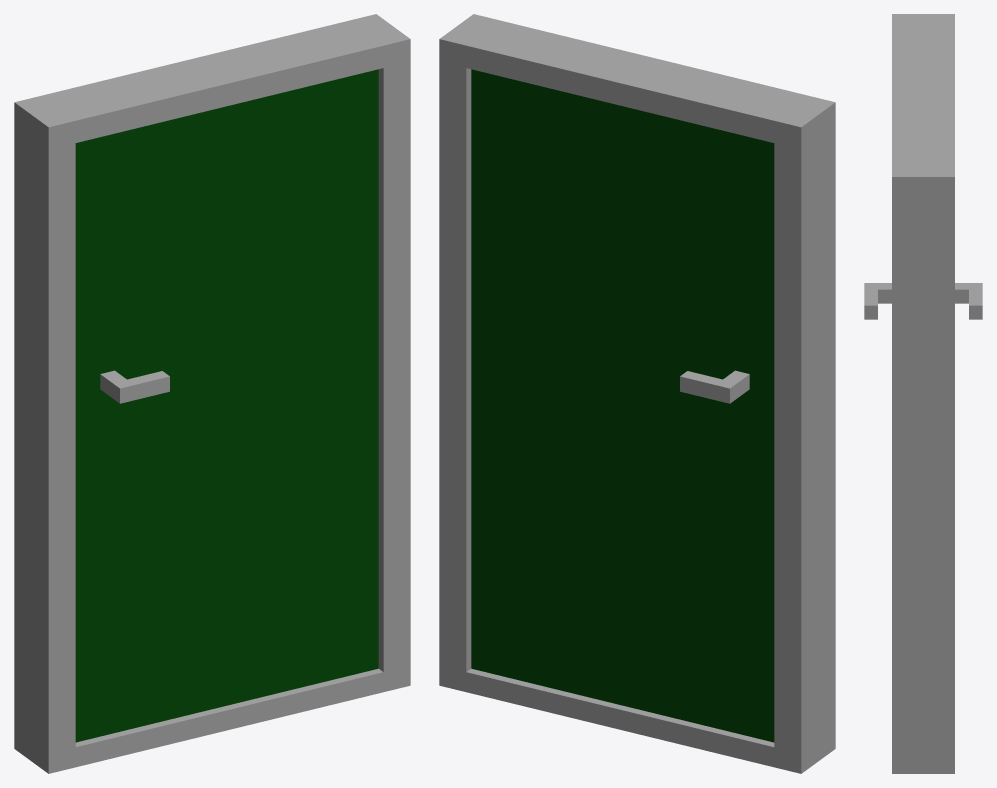
File: Door.fbx
3 renders of one model, left to right at view 1: azimuth 30°, elevation 25°; view 2: azimuth 150°, elevation 25°; view 3: azimuth 270°, elevation 25°, orthographic. The views are drawn at different scales.
Parts seen in each view (by area): view 1: OutDoor.001, OutDoor, handle; view 2: OutDoor.001, OutDoor, handle; view 3: OutDoor, handle.
Boxes of the visible parts, left/top/right/bottom form: OutDoor.001: left=75, top=69, right=378, bottom=742; OutDoor: left=14, top=14, right=410, bottom=773; handle: left=100, top=370, right=169, bottom=403; OutDoor.001: left=471, top=69, right=774, bottom=742; OutDoor: left=439, top=14, right=835, bottom=773; handle: left=680, top=370, right=749, bottom=403; OutDoor: left=892, top=14, right=954, bottom=773; handle: left=864, top=283, right=982, bottom=319.
Bounding box in the file's own units: 1.22 × 0.375 × 2.08.
